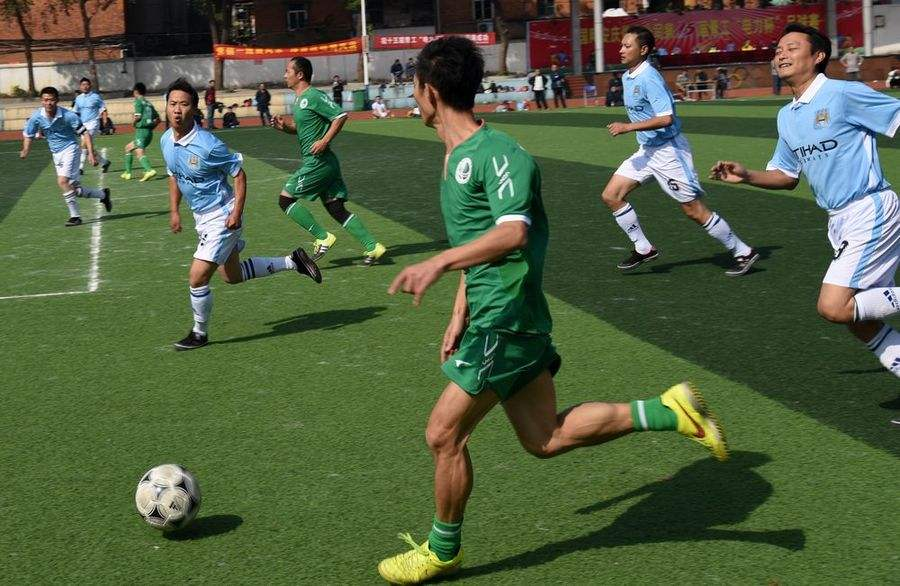football: (131, 461, 204, 530)
